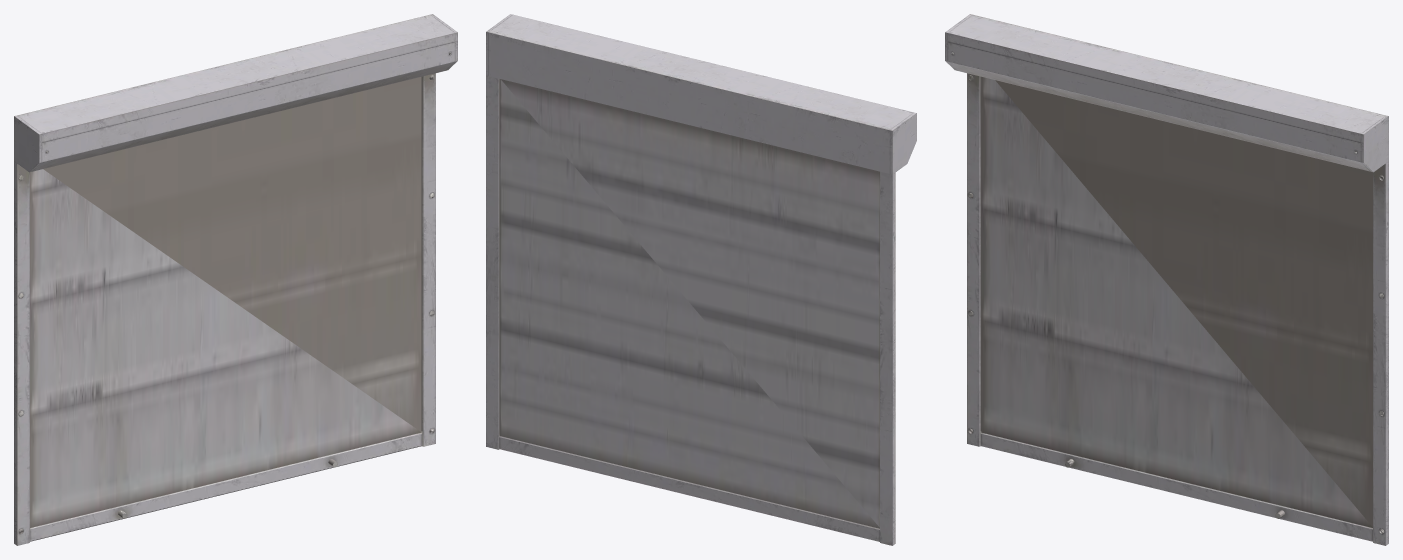
Rendered from rollershutter-window-02.glb.
3 views of the same model, side by side, from view 1: azimuth 30°, elevation 25°; view 2: azimuth 150°, elevation 25°; view 3: azimuth 330°, elevation 25° (orthographic). The views are drawn at different scales.
Parts seen in each view (by area): view 1: rollershutter_window_02; view 2: rollershutter_window_02; view 3: rollershutter_window_02.
Boxes of the visible parts, bbox=[...] form: rollershutter_window_02: bbox=[14, 14, 457, 545]; rollershutter_window_02: bbox=[486, 14, 916, 545]; rollershutter_window_02: bbox=[945, 14, 1388, 545].
Bounding box in the file's own units: 1.6 × 1.56 × 0.168.
Materials: 1 (1 with a texture image).
